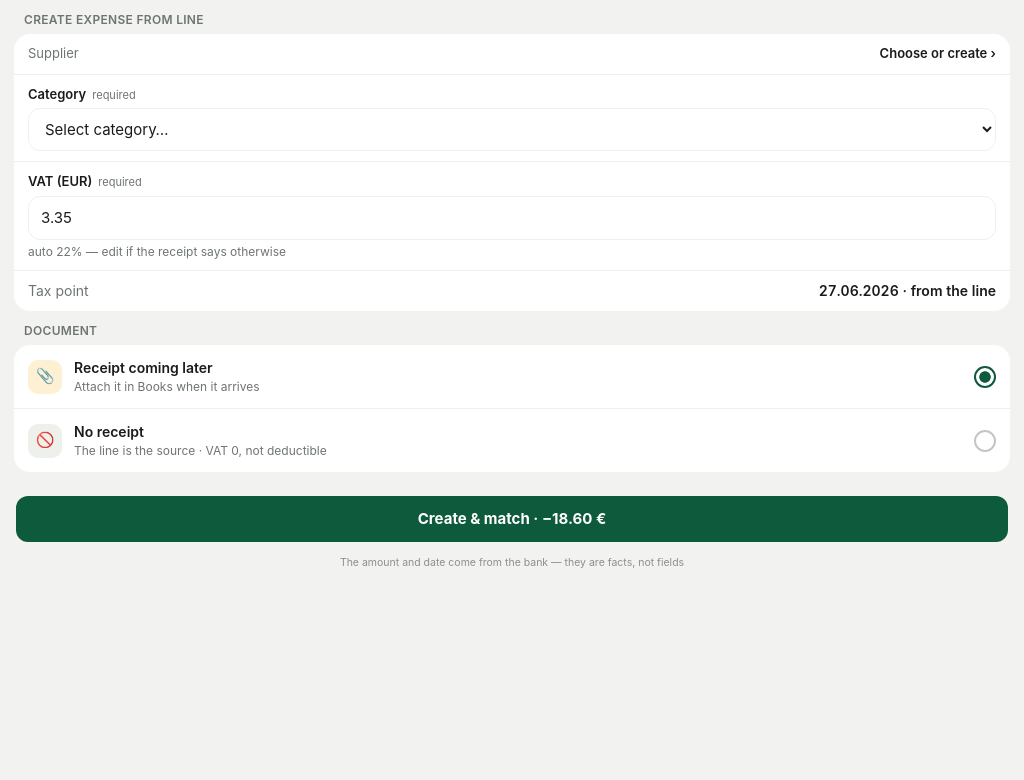
Test: TxCreateExpense › a refused create with no Expense id does NOT refresh the statement (Q10, form rule)
This screenshot has width=1024, height=780.
Select "Meals" in the dropdown labelled "Category" at (512, 130), box [28, 108, 996, 151]
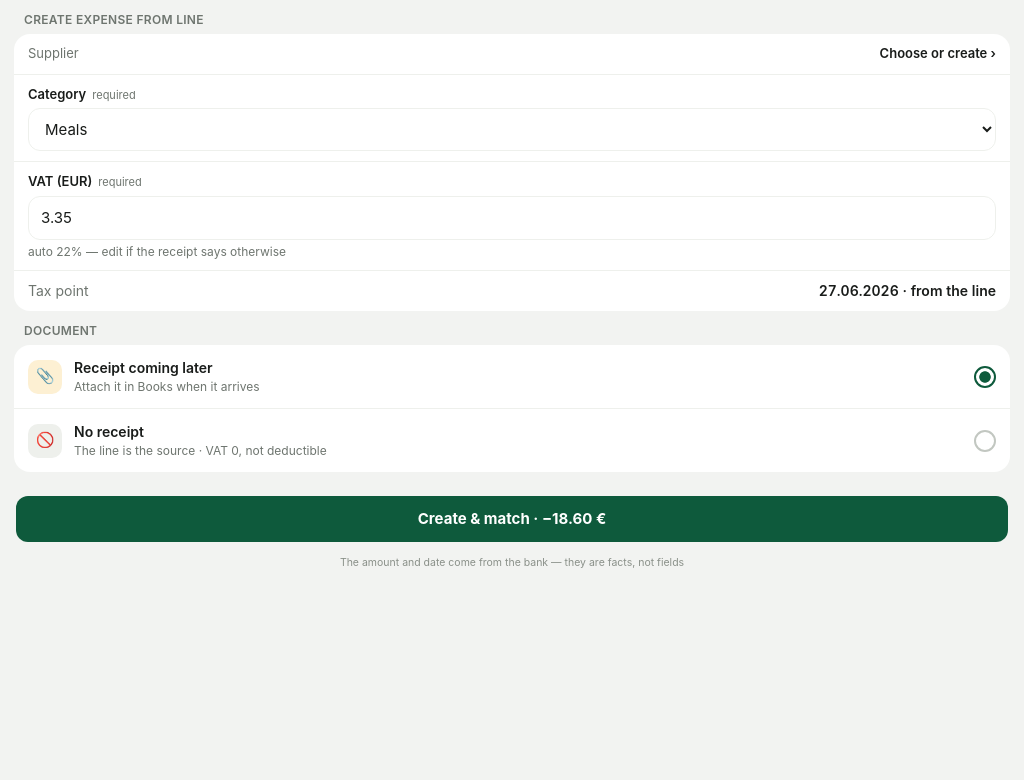
Click the button "Create & match · −18.60 €".
click(512, 519)  # box [16, 496, 1008, 542]
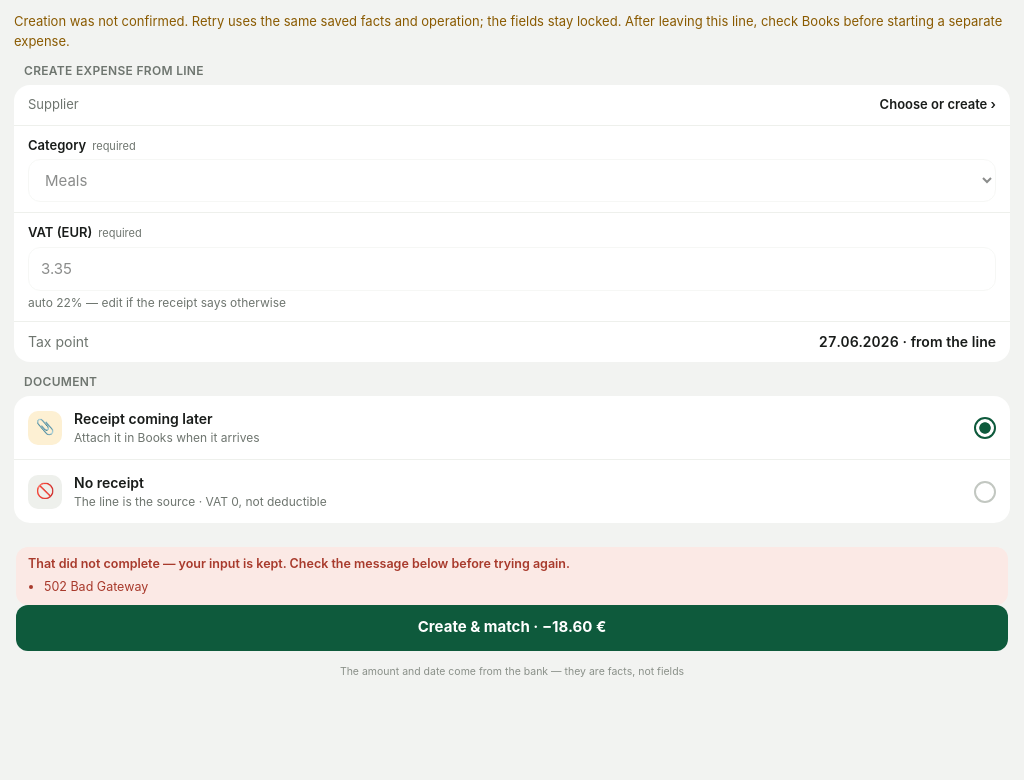
Expected: the text "That did not complete" is shown, [28, 556, 570, 571]
